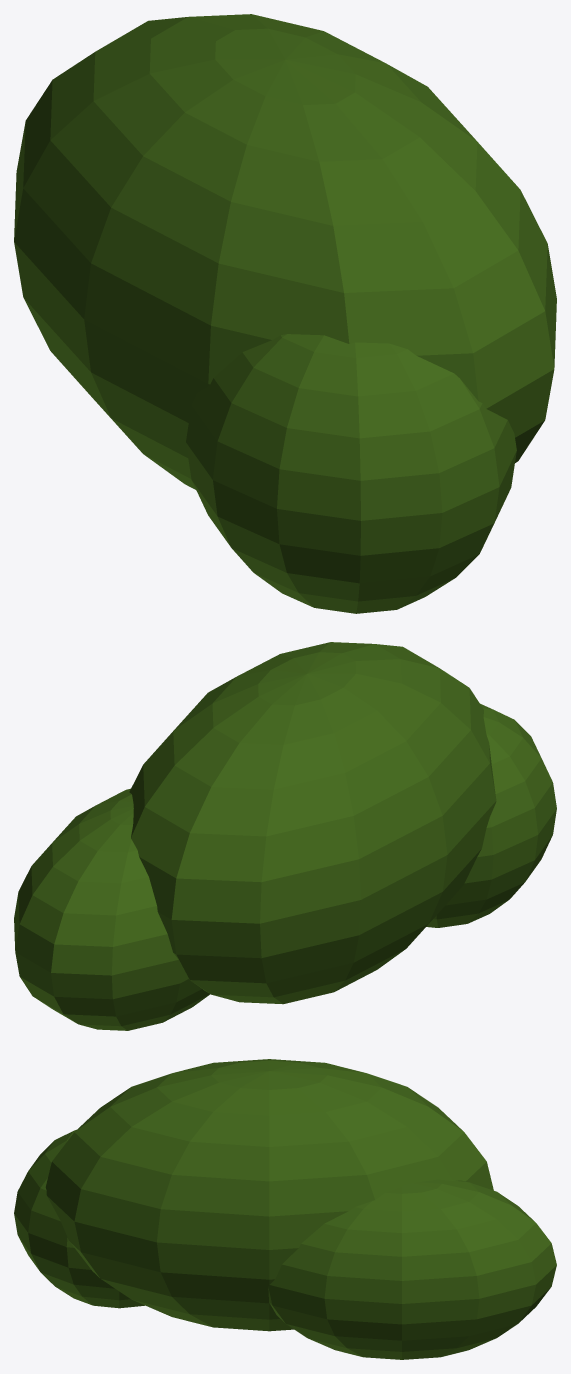
File: bush.fbx
The picture shows the model from 3 angles, top to bottom: view 1: azimuth 30°, elevation 25°; view 2: azimuth 150°, elevation 25°; view 3: azimuth 270°, elevation 25°; orthographic projection. The views are drawn at different scales.
Visible parts, largest first — view 1: pSphere1, pasted__pSphere2; view 2: pSphere1, pSphere2, pasted__pSphere2; view 3: pSphere1, pSphere2, pasted__pSphere2.
Boxes of the visible parts, bbox=[...] form: pSphere1: bbox=[14, 14, 556, 489]; pasted__pSphere2: bbox=[186, 334, 516, 613]; pSphere1: bbox=[129, 642, 496, 1004]; pSphere2: bbox=[14, 788, 210, 1030]; pasted__pSphere2: bbox=[426, 703, 556, 927]; pSphere1: bbox=[45, 1059, 493, 1331]; pSphere2: bbox=[268, 1179, 556, 1359]; pasted__pSphere2: bbox=[14, 1129, 144, 1308].
Size of the model in its own units: 2.28 by 1.98 by 4.03.
